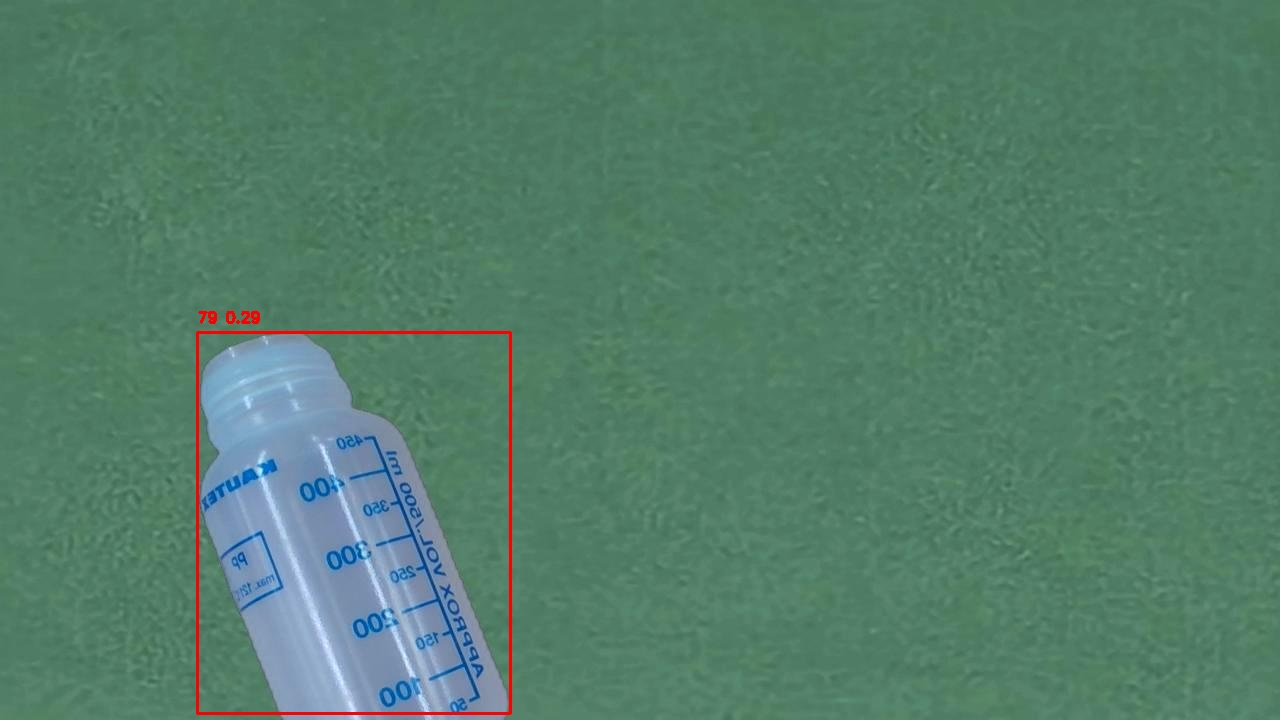cup: (197, 332, 510, 713)
